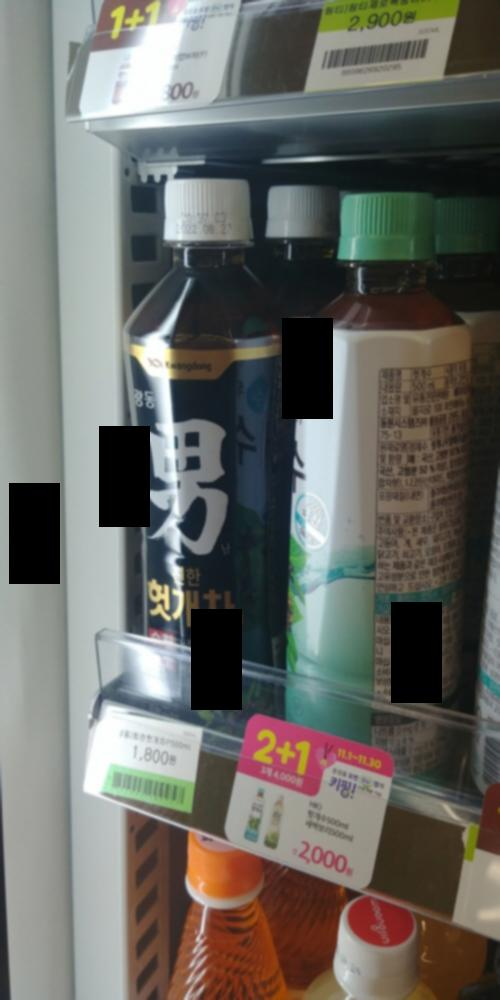heotgaecha: (123, 175, 267, 657)
